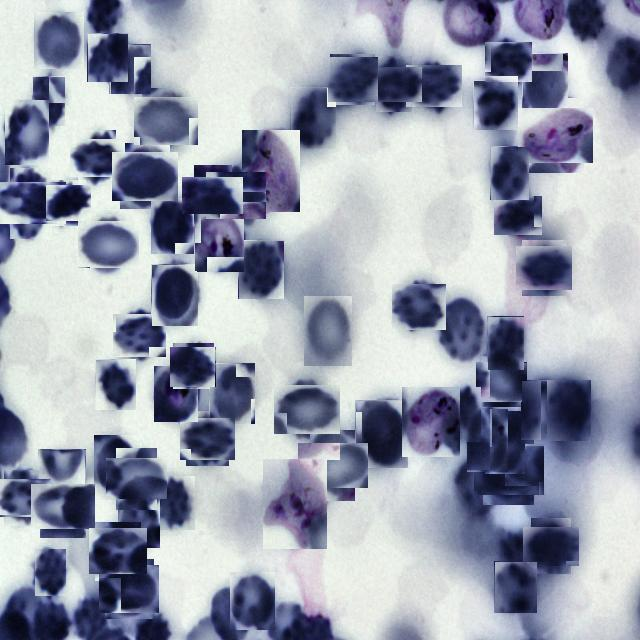red blood cell: (478, 439, 539, 500), (355, 400, 408, 468), (116, 147, 174, 205), (304, 436, 362, 494), (304, 296, 352, 366), (278, 381, 336, 438), (138, 92, 195, 148), (438, 298, 486, 364), (3, 176, 59, 232), (94, 435, 142, 500), (36, 478, 90, 534), (81, 218, 136, 272), (102, 562, 156, 616), (208, 168, 262, 222), (151, 264, 198, 326), (5, 100, 49, 165), (522, 53, 568, 115), (290, 87, 336, 149), (34, 12, 84, 69), (38, 449, 86, 508), (209, 363, 255, 424), (92, 525, 144, 578), (238, 240, 284, 299), (521, 380, 566, 440), (466, 408, 508, 472), (547, 380, 591, 441), (230, 572, 275, 630), (110, 454, 162, 504), (485, 411, 525, 474), (150, 197, 194, 254), (394, 282, 444, 332), (520, 243, 570, 293), (188, 170, 238, 220), (409, 62, 458, 112), (183, 414, 232, 463), (328, 56, 376, 104), (527, 522, 575, 570), (118, 494, 160, 548), (115, 312, 163, 359), (473, 80, 518, 130), (494, 561, 537, 613), (74, 134, 120, 182), (0, 474, 46, 521), (155, 476, 195, 530), (478, 358, 524, 404), (371, 61, 417, 107), (490, 146, 529, 200), (110, 44, 152, 94), (95, 359, 136, 410), (443, 387, 481, 442), (87, 33, 128, 82), (487, 316, 524, 370), (496, 194, 540, 238), (486, 40, 530, 84), (172, 344, 216, 388), (48, 182, 88, 224), (32, 76, 65, 126), (34, 548, 66, 596)
trophozoite: (263, 459, 327, 549), (242, 130, 300, 212), (524, 103, 588, 168), (402, 387, 460, 457), (194, 210, 244, 272), (154, 366, 198, 422)
